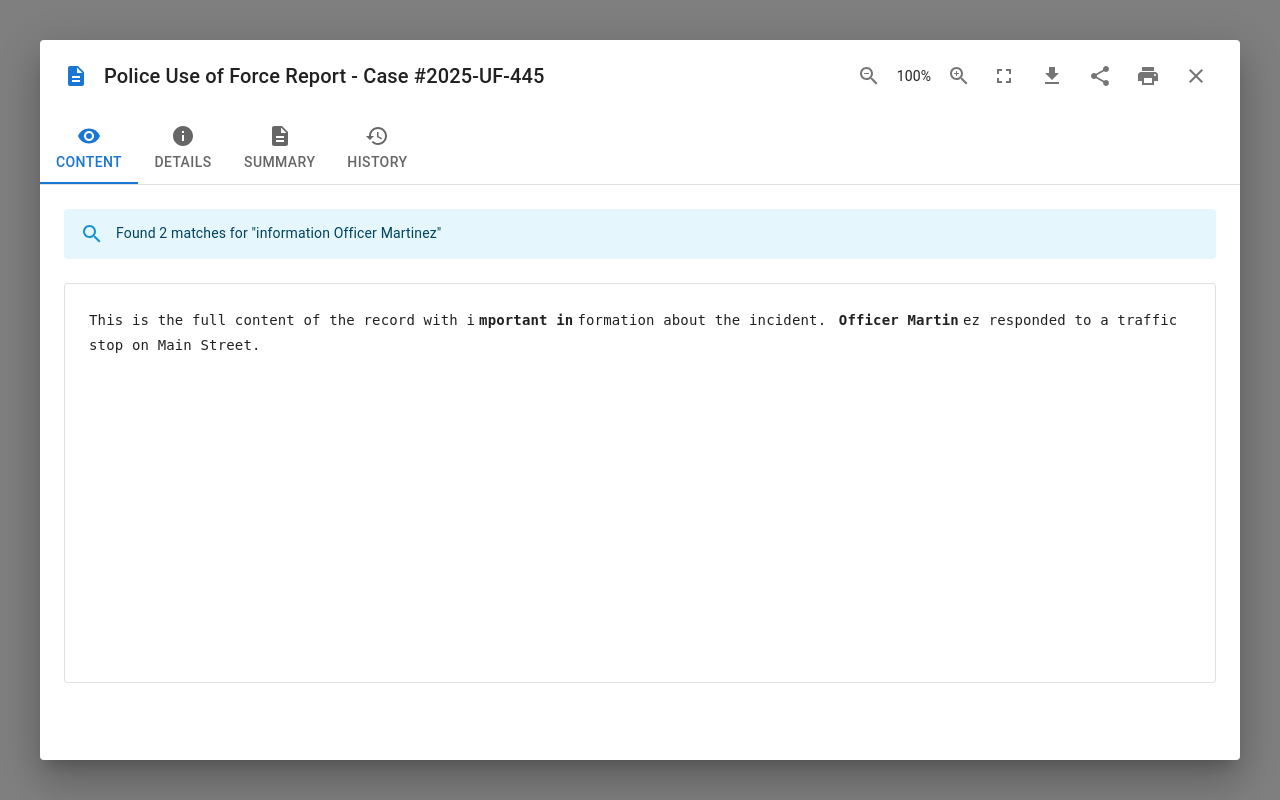
RecordPreviewPanel › displays AI summary in summary tab
expect the heading "Police Use of Force Report - Case #2025-UF-445" is shown: met, box [104, 64, 545, 88]
// Switch to summary tab
Click the tab "Summary" at x=280, y=148, box [228, 112, 331, 184]
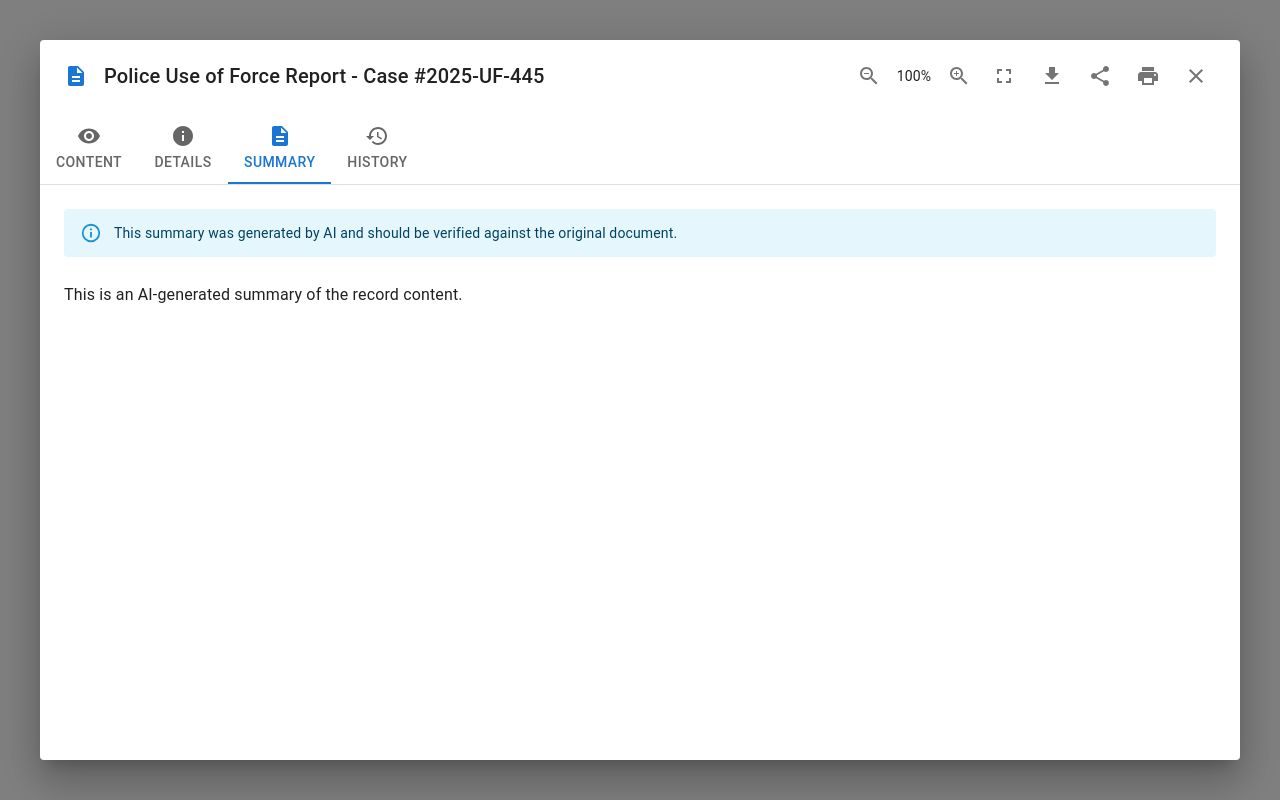
expect the text "This summary was generated by AI" is shown: met, box [114, 225, 677, 241]
expect the text "This is an AI-generated summary of the record content." is shown: met, box [64, 285, 463, 304]
